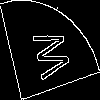W: (25, 25, 71, 84)
